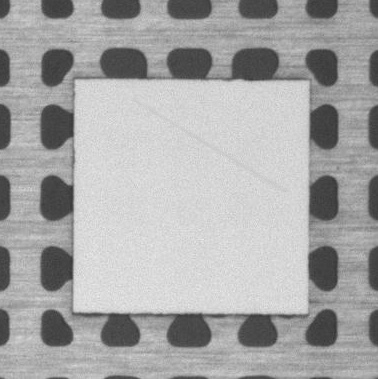DIE_CRACK: (134, 100, 284, 192)
